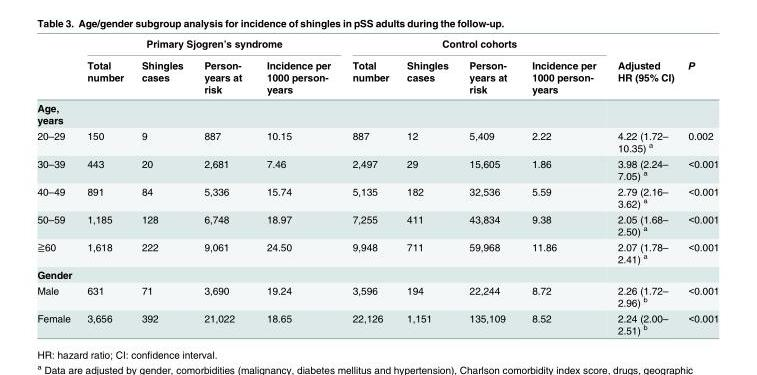table: (36, 37, 718, 335)
table column: (253, 37, 341, 335), (518, 37, 606, 335), (606, 37, 680, 335), (192, 37, 253, 335), (397, 37, 458, 335), (132, 37, 192, 335), (458, 37, 518, 335), (341, 37, 397, 335), (78, 37, 132, 335), (36, 37, 78, 335), (680, 37, 718, 335)
table column header: (36, 37, 718, 98)
table projected row header: (36, 98, 718, 127), (36, 266, 718, 282)
table row: (36, 53, 718, 98), (36, 98, 718, 127), (36, 127, 718, 155), (36, 155, 718, 183), (36, 210, 718, 238), (36, 238, 718, 266), (36, 282, 718, 310), (36, 183, 718, 210), (36, 310, 718, 335), (36, 37, 718, 53), (36, 266, 718, 282)
table spanning cell: (606, 37, 680, 98), (341, 37, 606, 53), (78, 37, 341, 53), (680, 37, 718, 98)
